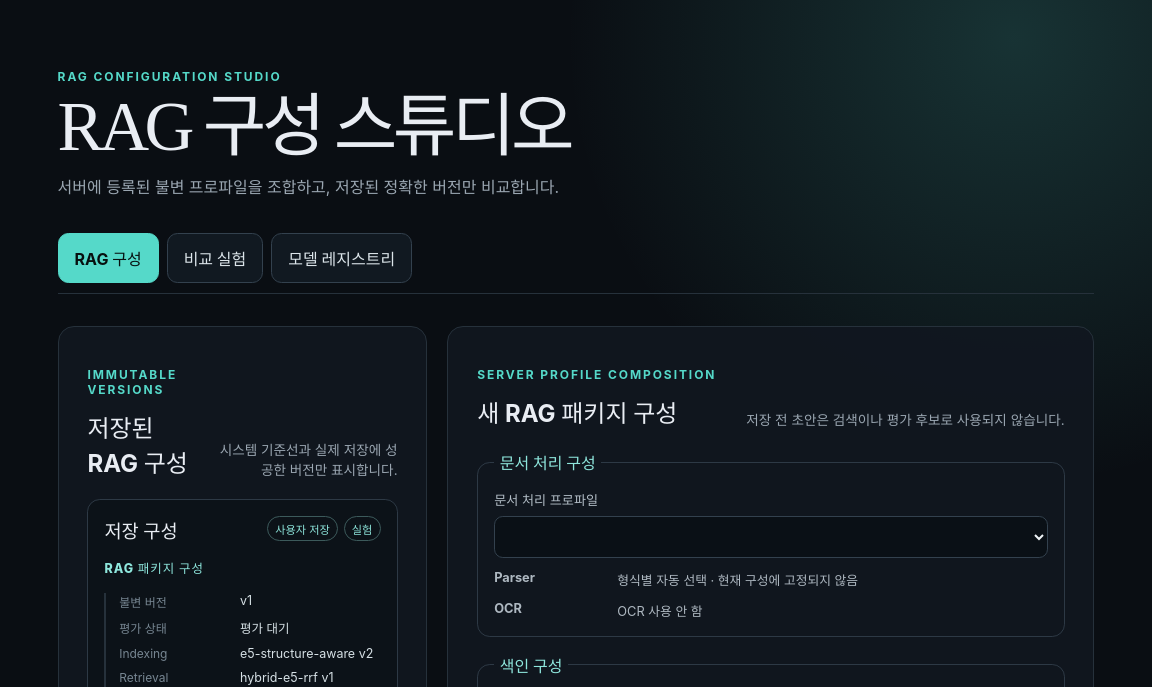
ConfigurationStudioPage › accepts an exact old version without changing any default flags
The image size is (1152, 687).
Step 1. Click the tab "비교 실험" → (215,258), box [167,233,263,283]
(page scrolled)
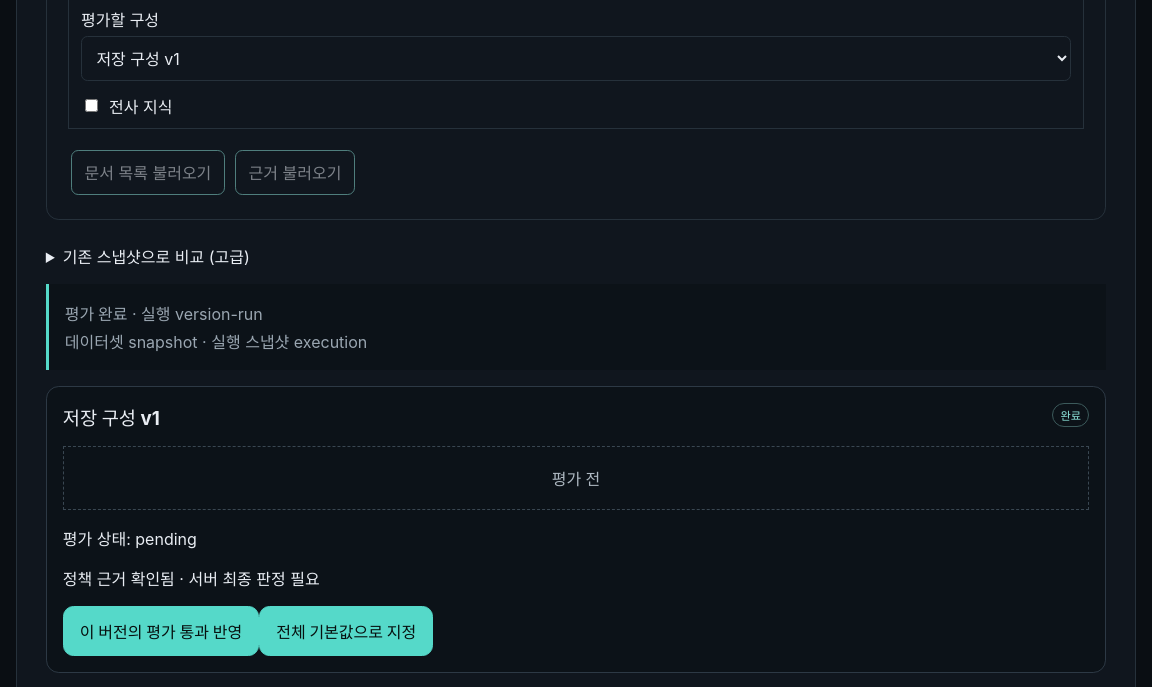
Step 2. Click the button "이 버전의 평가 통과 반영" → (161,631), box [63,606,259,656]
(page scrolled)
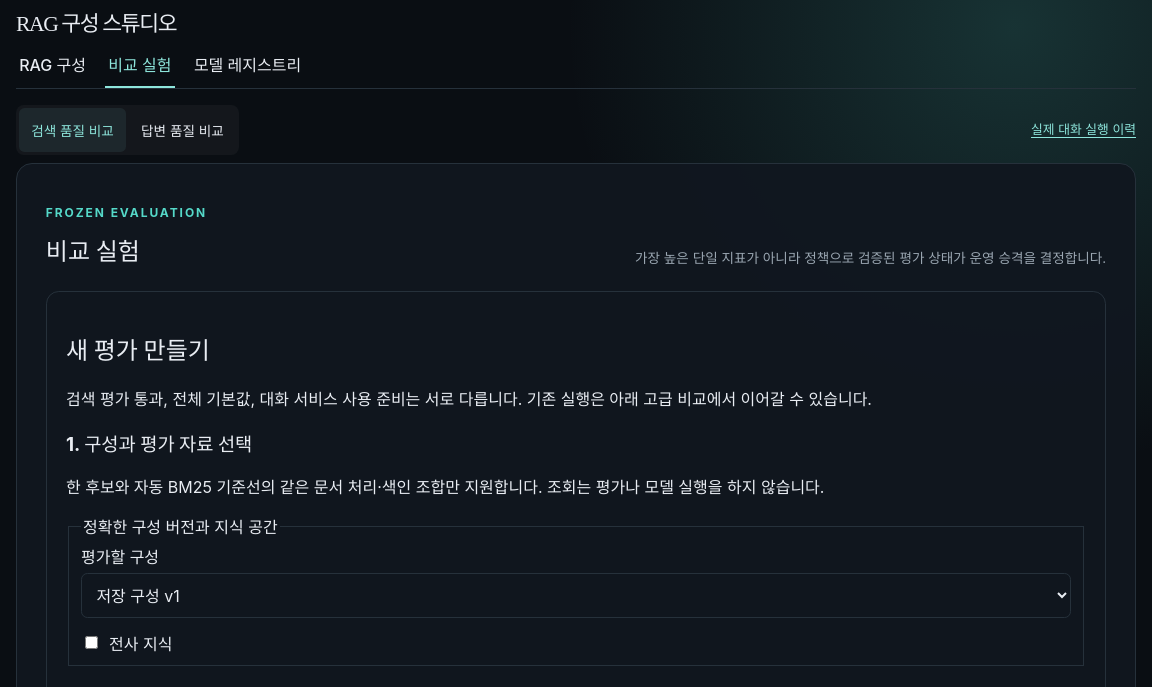
Step 3. Click the tab "RAG 구성" → (53,65), box [16,42,89,88]
(page scrolled)
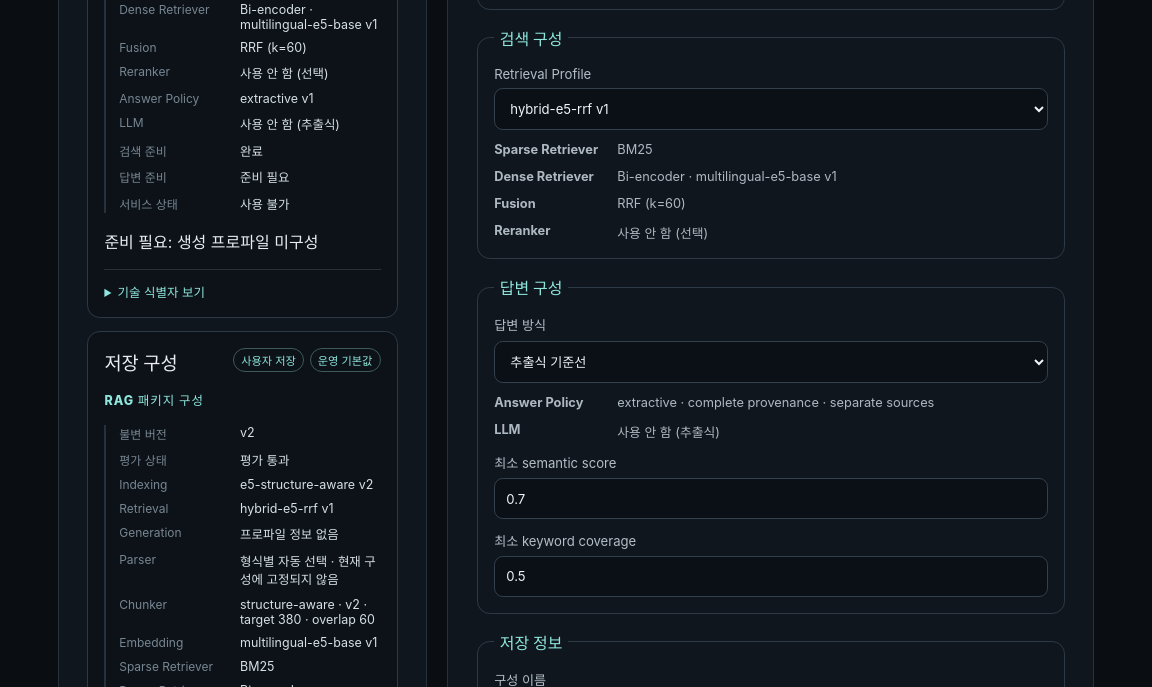
Expected: the text "운영 기본값" is shown, [310,348,381,372]
